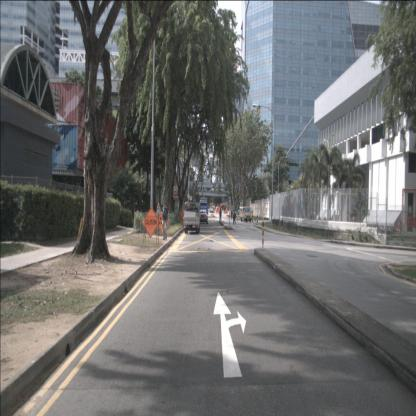barrier: (224, 211, 228, 217), (228, 211, 232, 216)
